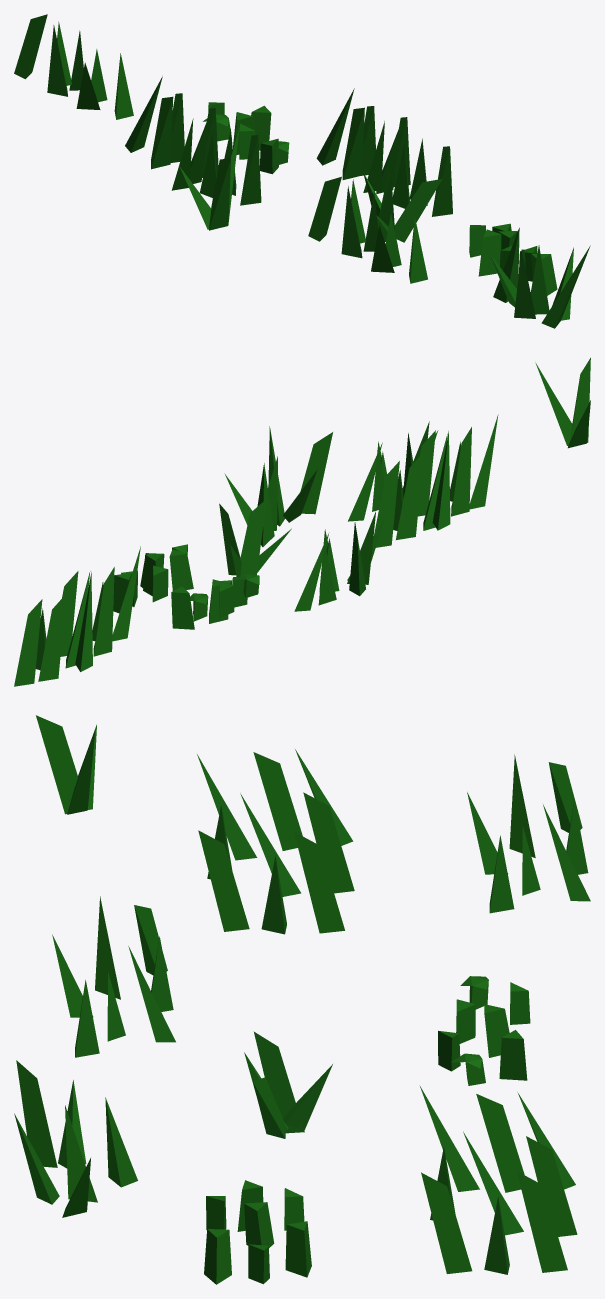
Rendered from GrassTileDiagonal.obj.
3 views of the same model, one above another, from view 1: azimuth 30°, elevation 25°; view 2: azimuth 150°, elevation 25°; view 3: azimuth 270°, elevation 25° (orthographic). The views are drawn at different scales.
Visible parts, largest first — view 1: GrassBunch1.003_Circle.002; view 2: GrassBunch1.003_Circle.002; view 3: GrassBunch1.003_Circle.002.
Part boxes in pixels (x1=…): GrassBunch1.003_Circle.002: x1=14, y1=14, x2=590, y2=328; GrassBunch1.003_Circle.002: x1=14, y1=357, x2=590, y2=686; GrassBunch1.003_Circle.002: x1=14, y1=715, x2=590, y2=1284.
Size of the model in its own units: 0.8568 by 0.5603 by 0.8448.
